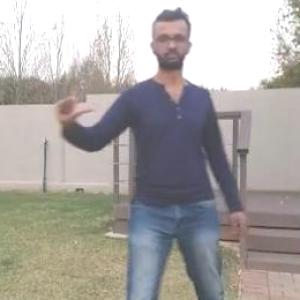land_hand: (47, 73, 96, 127)
